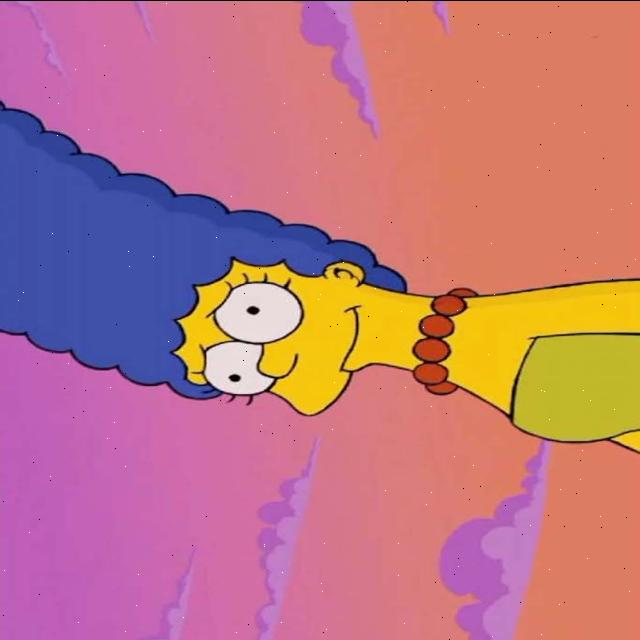Marge Simpson: (0, 96, 478, 418)
